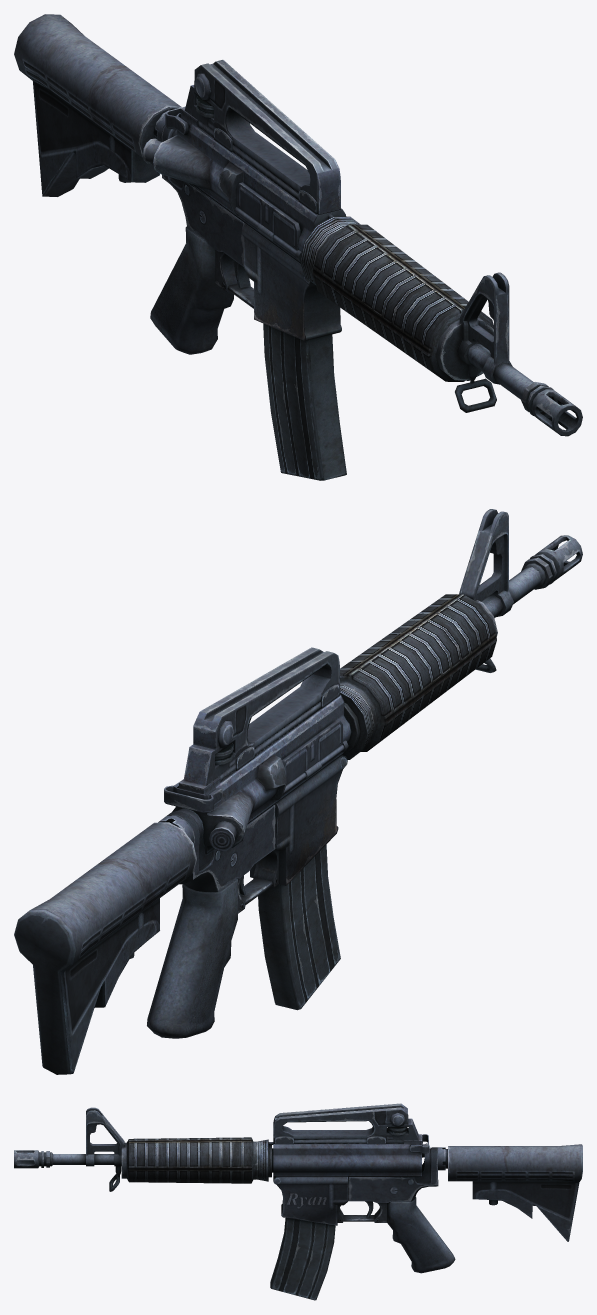
3 views of the same model, one above another, from view 1: azimuth 30°, elevation 25°; view 2: azimuth 150°, elevation 25°; view 3: azimuth 270°, elevation 25° (orthographic). The views are drawn at different scales.
Parts seen in each view (by area): view 1: Gun_M41D; view 2: Gun_M41D; view 3: Gun_M41D.
Boxes of the visible parts, x1,y1,x2,y2 form: Gun_M41D: (14,14,582,480); Gun_M41D: (14,509,582,1074); Gun_M41D: (14,1103,582,1300).
Size of what is drawn, in the model's own units: 102 by 9.37 by 37.59.
